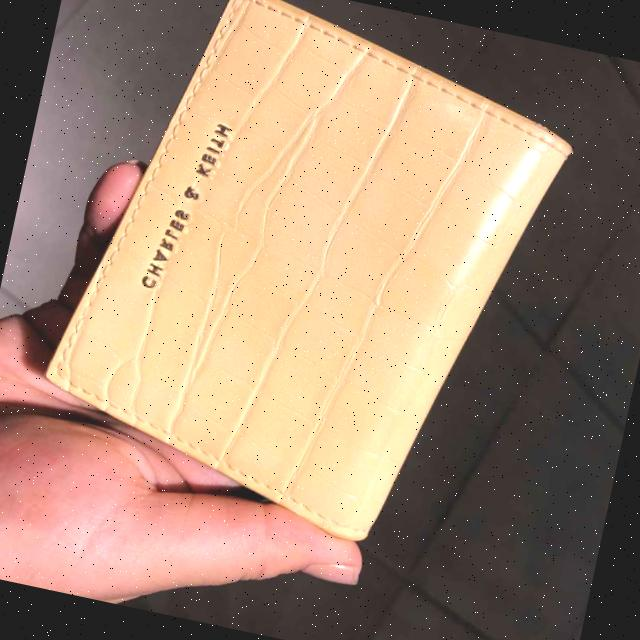Handbag: (0, 0, 596, 640)
